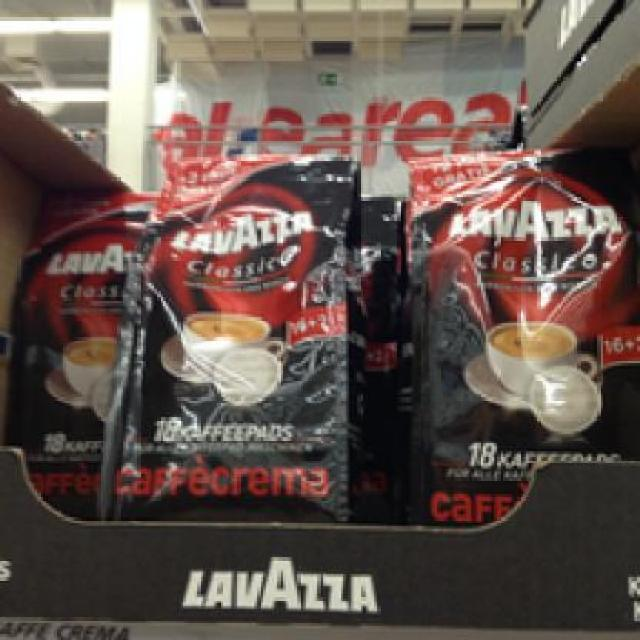Coffee: (97, 148, 360, 518), (392, 137, 634, 523), (5, 180, 148, 509)
